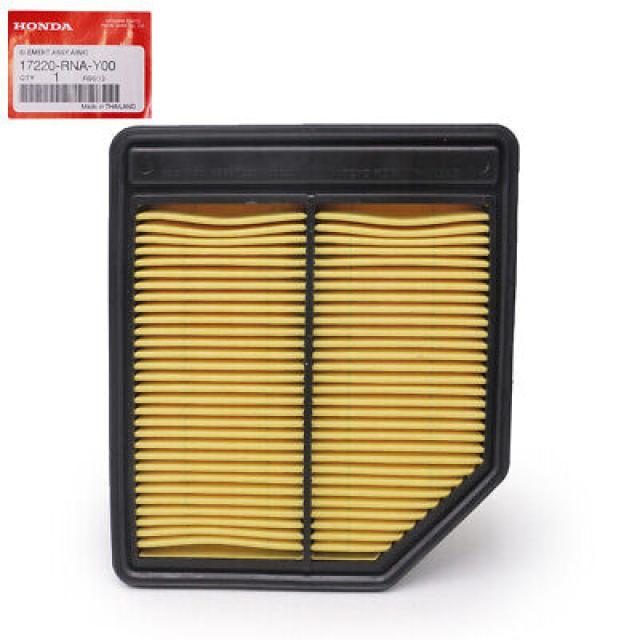air_filter: (119, 128, 502, 591)
